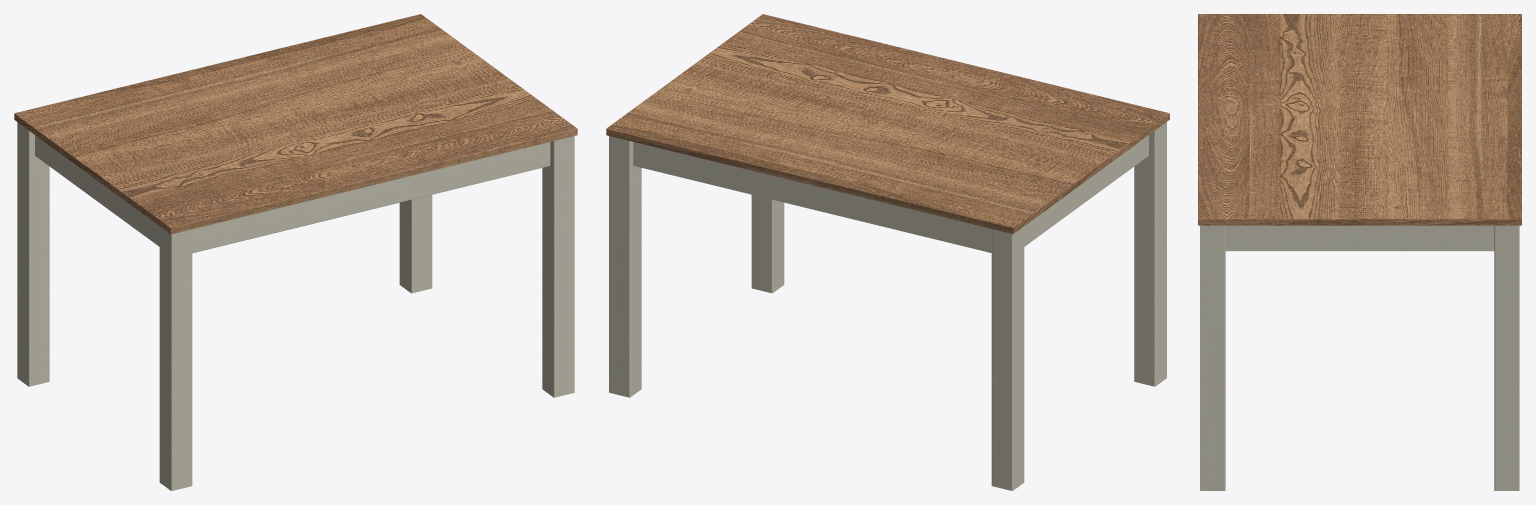
File: table-2.glb
The picture shows the model from 3 angles, left to right: view 1: azimuth 30°, elevation 25°; view 2: azimuth 150°, elevation 25°; view 3: azimuth 270°, elevation 25°; orthographic projection. The views are drawn at different scales.
Parts seen in each view (by area): view 1: ASY_ART_00597919_S01_NV01; view 2: ASY_ART_00597919_S01_NV01; view 3: ASY_ART_00597919_S01_NV01.
Boxes of the visible parts, x1,y1,x2,y2 form: ASY_ART_00597919_S01_NV01: (14, 14, 577, 490); ASY_ART_00597919_S01_NV01: (606, 14, 1169, 490); ASY_ART_00597919_S01_NV01: (1198, 14, 1521, 490).
Bounding box in the file's own units: 1.2 × 0.7474 × 0.8002.
1 material, 1 textured.
